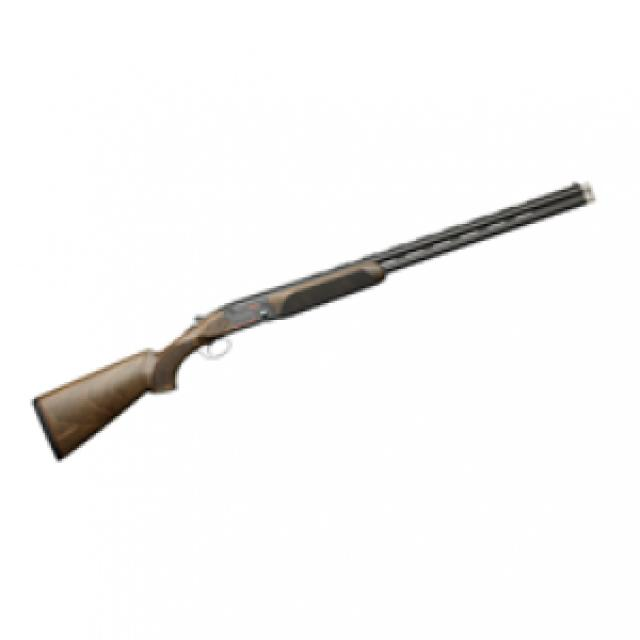rifle: (40, 177, 607, 474)
